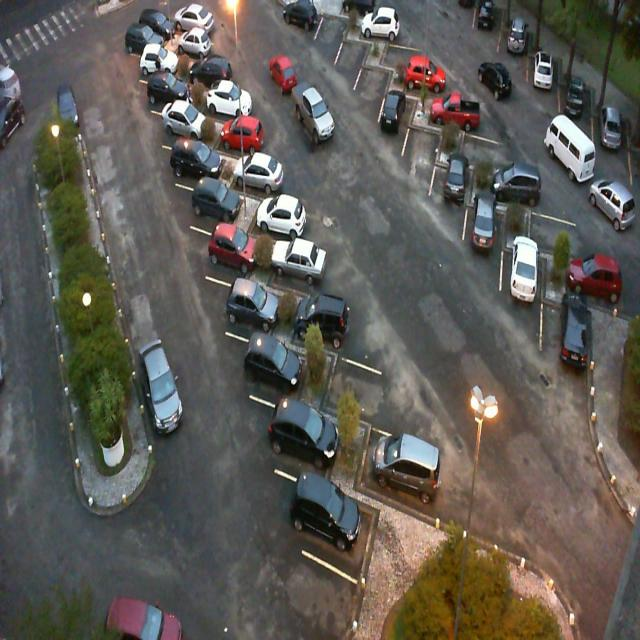car: (288, 474, 362, 548), (376, 425, 441, 501), (268, 399, 338, 465), (138, 338, 184, 434), (106, 588, 182, 640), (544, 114, 597, 184), (245, 334, 305, 389), (294, 290, 350, 344), (563, 254, 622, 303), (205, 222, 257, 274), (191, 177, 243, 229), (586, 178, 634, 234), (224, 276, 276, 327), (291, 86, 334, 146), (231, 150, 286, 196), (126, 9, 177, 53), (172, 138, 225, 180), (490, 165, 540, 209), (564, 291, 590, 373), (258, 195, 306, 239), (507, 238, 538, 306), (428, 89, 479, 130), (216, 115, 264, 157), (202, 79, 252, 118), (281, 236, 325, 279), (164, 102, 206, 143), (470, 191, 498, 252), (141, 41, 182, 82), (406, 56, 448, 94), (146, 72, 190, 108), (162, 27, 212, 58), (439, 157, 468, 208), (190, 57, 233, 89), (478, 63, 514, 101), (379, 84, 405, 136), (0, 98, 28, 145), (362, 6, 399, 40), (55, 85, 82, 131), (598, 96, 621, 149), (173, 3, 215, 32), (269, 56, 299, 94), (282, 0, 320, 29), (565, 72, 583, 122), (507, 16, 528, 57), (533, 53, 553, 90), (476, 0, 496, 33), (0, 68, 20, 100)
